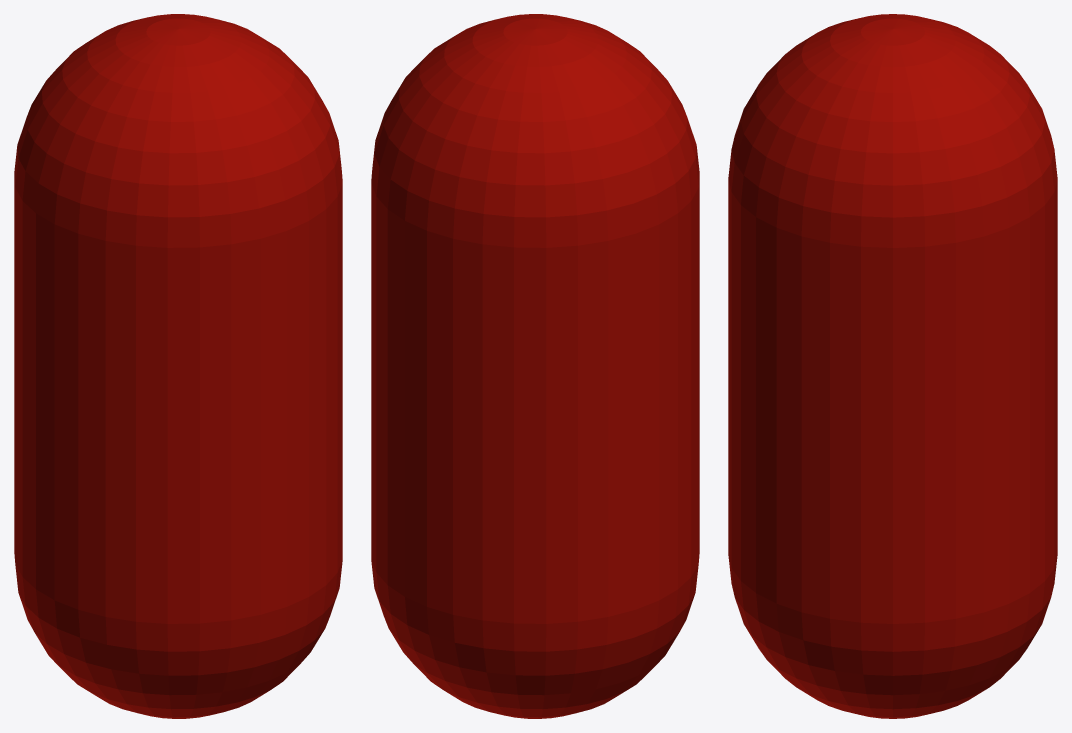
The model's file is physCaps.glb.
The picture shows the model from 3 angles, left to right: view 1: azimuth 30°, elevation 25°; view 2: azimuth 150°, elevation 25°; view 3: azimuth 270°, elevation 25°; orthographic projection.
Parts seen in each view (by area): view 1: Sphere; view 2: Sphere; view 3: Sphere.
Boxes of the visible parts, box(x1,y1,x2,y2) form: Sphere: box(14, 14, 342, 718); Sphere: box(371, 14, 699, 718); Sphere: box(728, 14, 1057, 718).
Size of the model in its own units: 2 by 4.52 by 2.
1 material, 1 textured.
